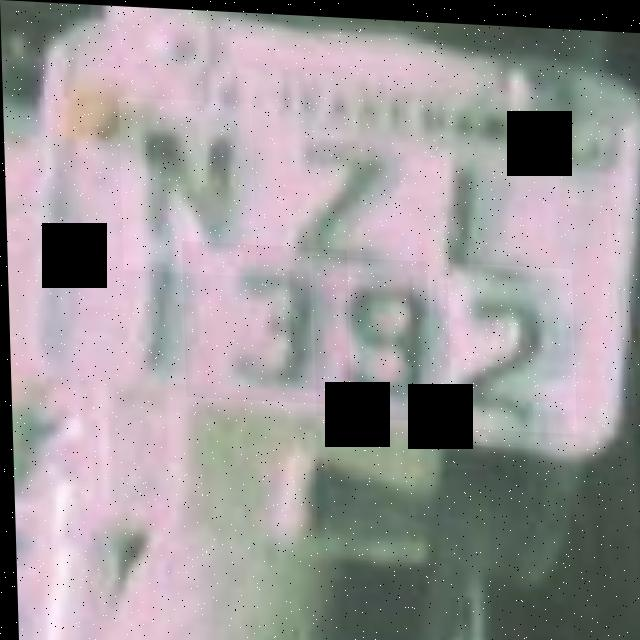2: (426, 257, 574, 428)
3: (180, 239, 349, 402)
7: (0, 1, 1, 2)
8: (311, 252, 449, 418)
N: (118, 96, 255, 274)
Z: (263, 127, 406, 268)
